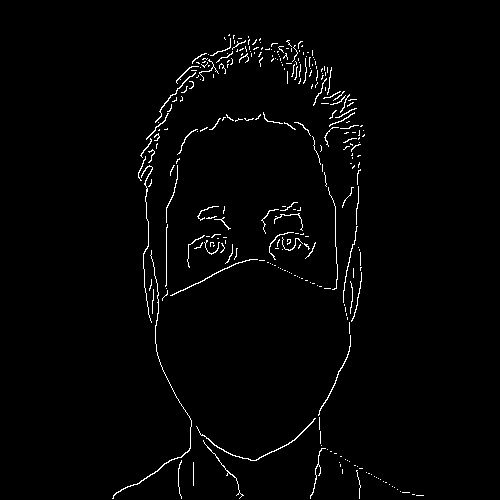mask: (160, 264, 357, 462)
